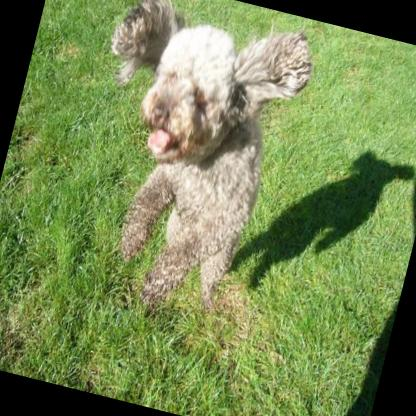miniature_poodle: (48, 0, 324, 336)
